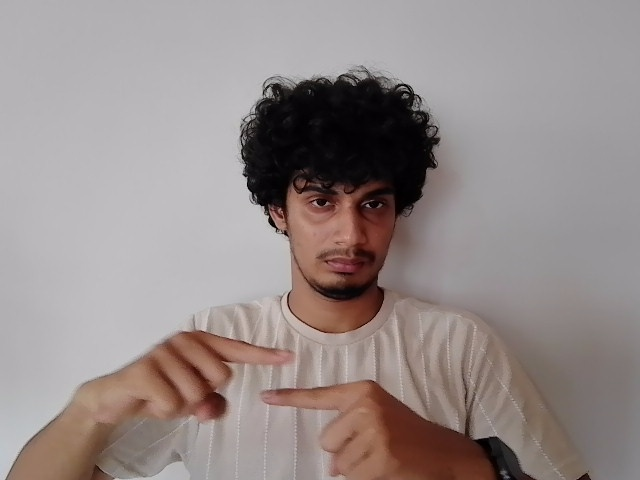about: (77, 329, 464, 480)
